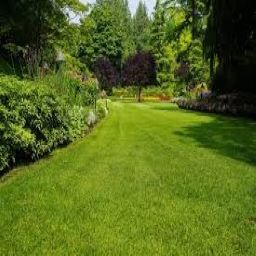grass: (2, 177, 252, 252), (8, 122, 253, 175), (100, 100, 237, 121)
